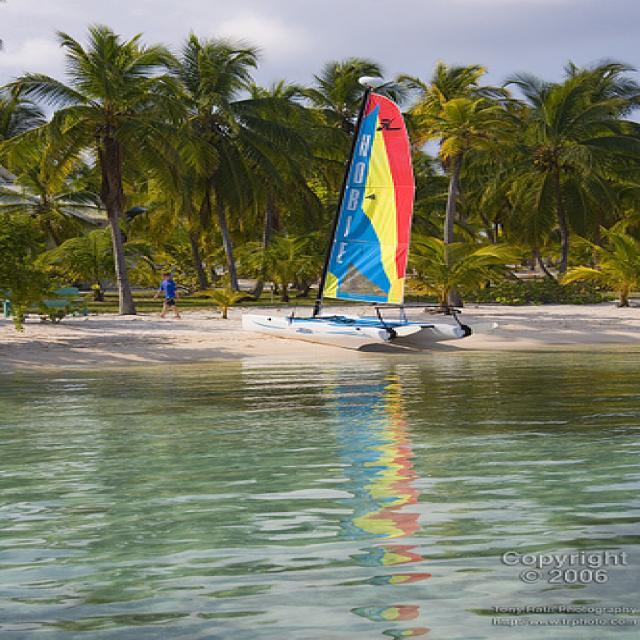Ship: (232, 80, 485, 347)
